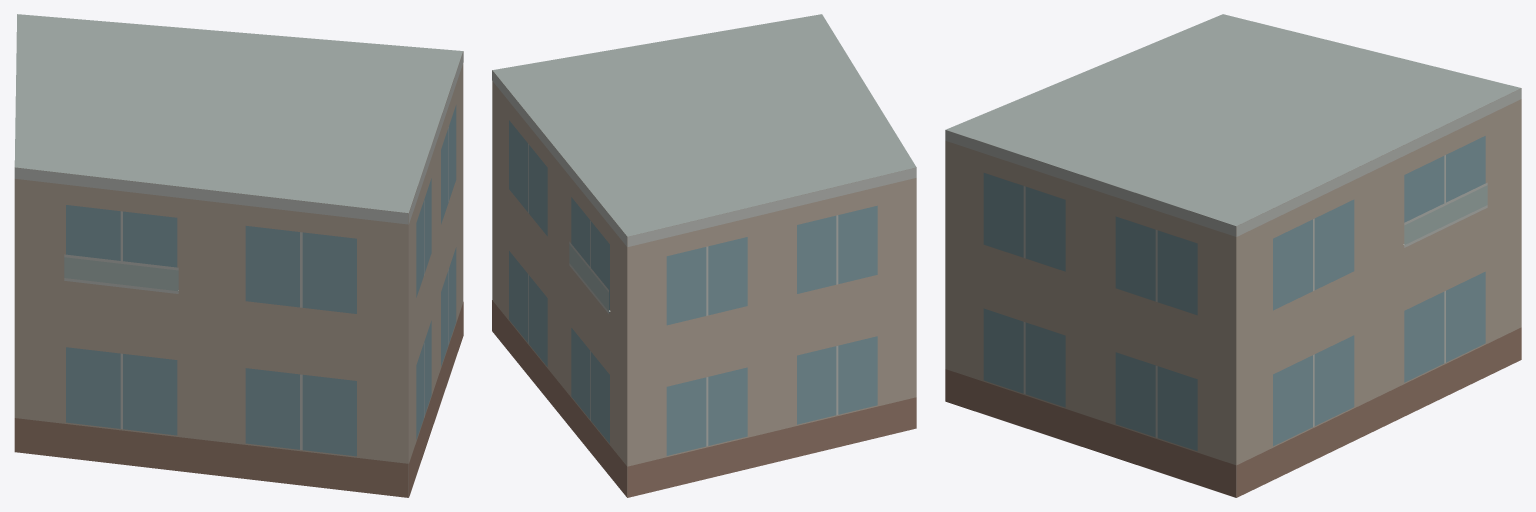
The model's file is survey-upis-32927437.glb.
3 views of the same model, side by side, from view 1: azimuth 30°, elevation 25°; view 2: azimuth 150°, elevation 25°; view 3: azimuth 270°, elevation 25° (orthographic). The views are drawn at different scales.
Parts seen in each view (by area): view 1: survey-upis-32927437.tmp; view 2: survey-upis-32927437.tmp; view 3: survey-upis-32927437.tmp.
Boxes of the visible parts, x1,y1,x2,y2 form: survey-upis-32927437.tmp: (14,14,463,497); survey-upis-32927437.tmp: (492,14,916,497); survey-upis-32927437.tmp: (945,14,1521,497).
Bounding box in the file's own units: 10.23 × 6.1 × 11.74.
